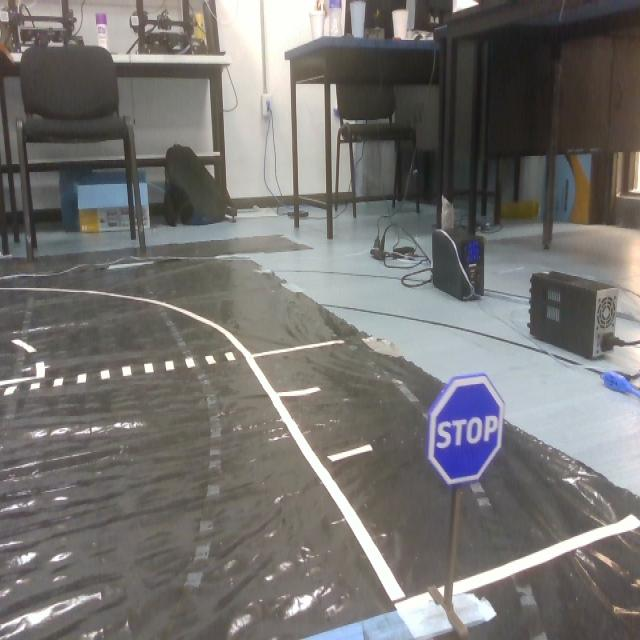no_entry: (434, 378, 512, 494)
